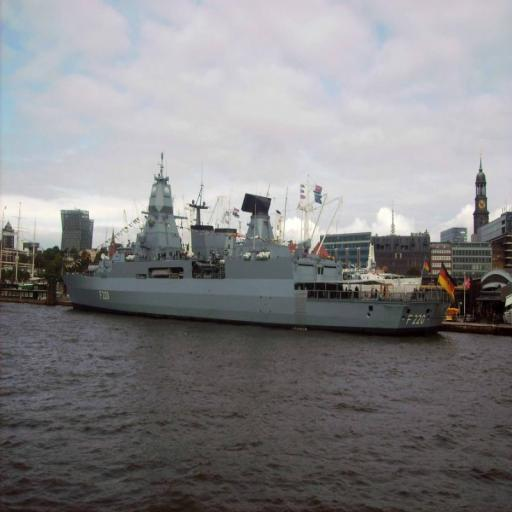Fragata: (49, 140, 457, 341)
